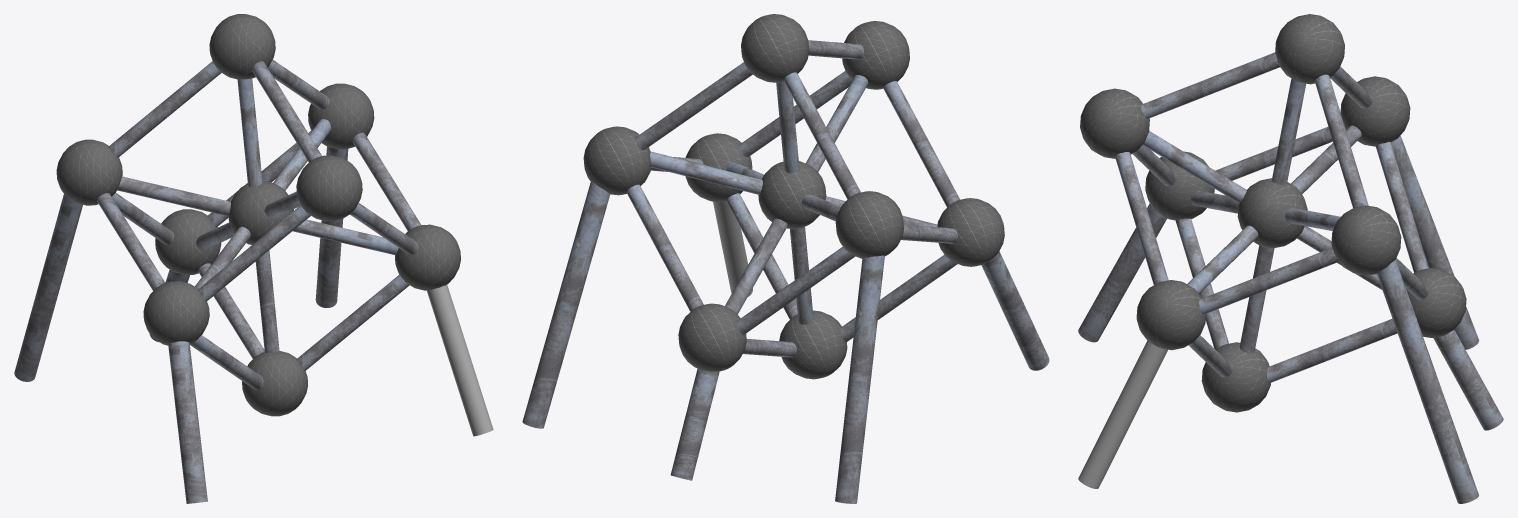
Rendered from atomium.fbx.
The picture shows the model from 3 angles, left to right: view 1: azimuth 30°, elevation 25°; view 2: azimuth 150°, elevation 25°; view 3: azimuth 270°, elevation 25°; orthographic projection. The views are drawn at different scales.
Visible parts, largest first — view 1: pCylinder21, pCylinder17, pSphere3, pCylinder20, pSphere4, pSphere9, pSphere8, pCylinder3, pCylinder2, pSphere2, pSphere1, pSphere6 (+17 smaller); view 2: pCylinder22, pCylinder21, pSphere9, pSphere8, pSphere7, pSphere6, pSphere4, pSphere1, pSphere3, pSphere5, pCylinder4, pCylinder17 (+17 smaller); view 3: pCylinder22, pSphere6, pSphere8, pSphere2, pSphere3, pCylinder20, pSphere5, pSphere9, pSphere1, pCylinder2, pCylinder21, pCylinder17 (+18 smaller).
Boxes of the visible parts, x1,y1,x2,y2 form: pCylinder21: [14, 194, 82, 381]; pCylinder17: [168, 341, 207, 503]; pSphere3: [296, 155, 362, 221]; pCylinder20: [427, 285, 493, 436]; pSphere4: [143, 281, 209, 345]; pSphere9: [56, 139, 122, 205]; pSphere8: [209, 14, 275, 79]; pCylinder3: [117, 176, 398, 255]; pCylinder2: [237, 78, 279, 352]; pSphere2: [395, 224, 460, 290]; pSphere1: [242, 351, 307, 416]; pSphere6: [308, 83, 374, 149]; pCylinder22: [522, 181, 610, 428]; pCylinder21: [835, 255, 884, 503]; pSphere9: [835, 191, 903, 258]; pSphere8: [741, 14, 809, 82]; pSphere7: [678, 303, 746, 371]; pSphere6: [583, 126, 651, 195]; pSphere4: [937, 198, 1004, 266]; pSphere1: [779, 310, 847, 379]; pSphere3: [842, 21, 909, 89]; pSphere5: [758, 161, 826, 228]; pCylinder4: [725, 75, 868, 313]; pCylinder17: [981, 251, 1049, 370]; pCylinder22: [1377, 259, 1478, 503]; pSphere6: [1331, 205, 1401, 275]; pSphere8: [1275, 14, 1344, 84]; pSphere2: [1136, 280, 1206, 350]; pSphere3: [1080, 88, 1149, 158]; pCylinder20: [1078, 341, 1167, 488]; pSphere5: [1237, 178, 1307, 248]; pSphere9: [1340, 76, 1410, 146]; pSphere1: [1201, 342, 1270, 412]; pCylinder2: [1239, 78, 1305, 353]; pCylinder21: [1391, 135, 1479, 349]; pCylinder17: [1078, 203, 1166, 342].
Size of the model in its own units: 32.91 by 37.13 by 34.99.
3 materials, 2 textured.
